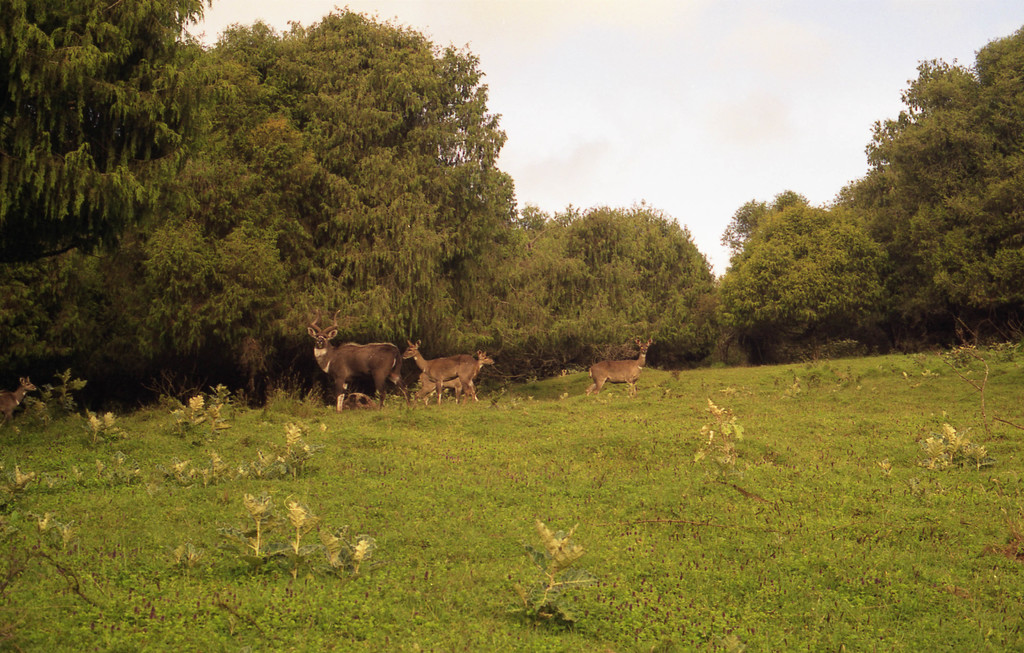Animal: (314, 295, 412, 420), (407, 346, 488, 400), (400, 347, 475, 405), (585, 336, 649, 393)
